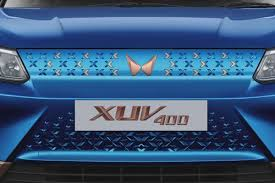XUV 400: (1, 1, 275, 182)
